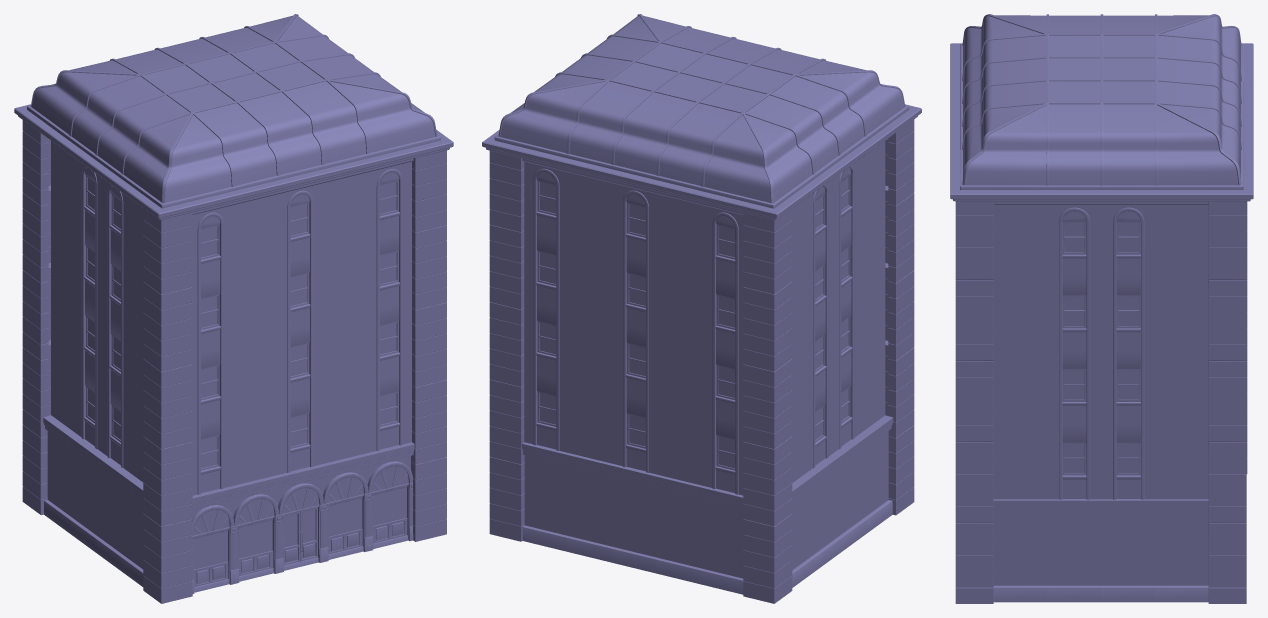
The model's file is building_03.fbx.
3 renders of one model, left to right at view 1: azimuth 30°, elevation 25°; view 2: azimuth 150°, elevation 25°; view 3: azimuth 270°, elevation 25°, orthographic. The views are drawn at different scales.
Visible parts, largest first — view 1: building_03; view 2: building_03; view 3: building_03.
Boxes of the visible parts, bbox=[...] form: building_03: bbox=[14, 14, 453, 603]; building_03: bbox=[482, 14, 921, 603]; building_03: bbox=[950, 14, 1253, 603].
Size of the model in its own units: 1320 by 1885 by 1121.
